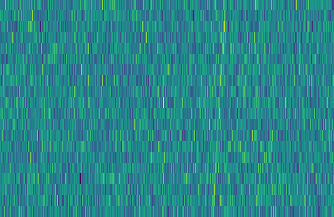signal: (208, 0, 231, 217)
